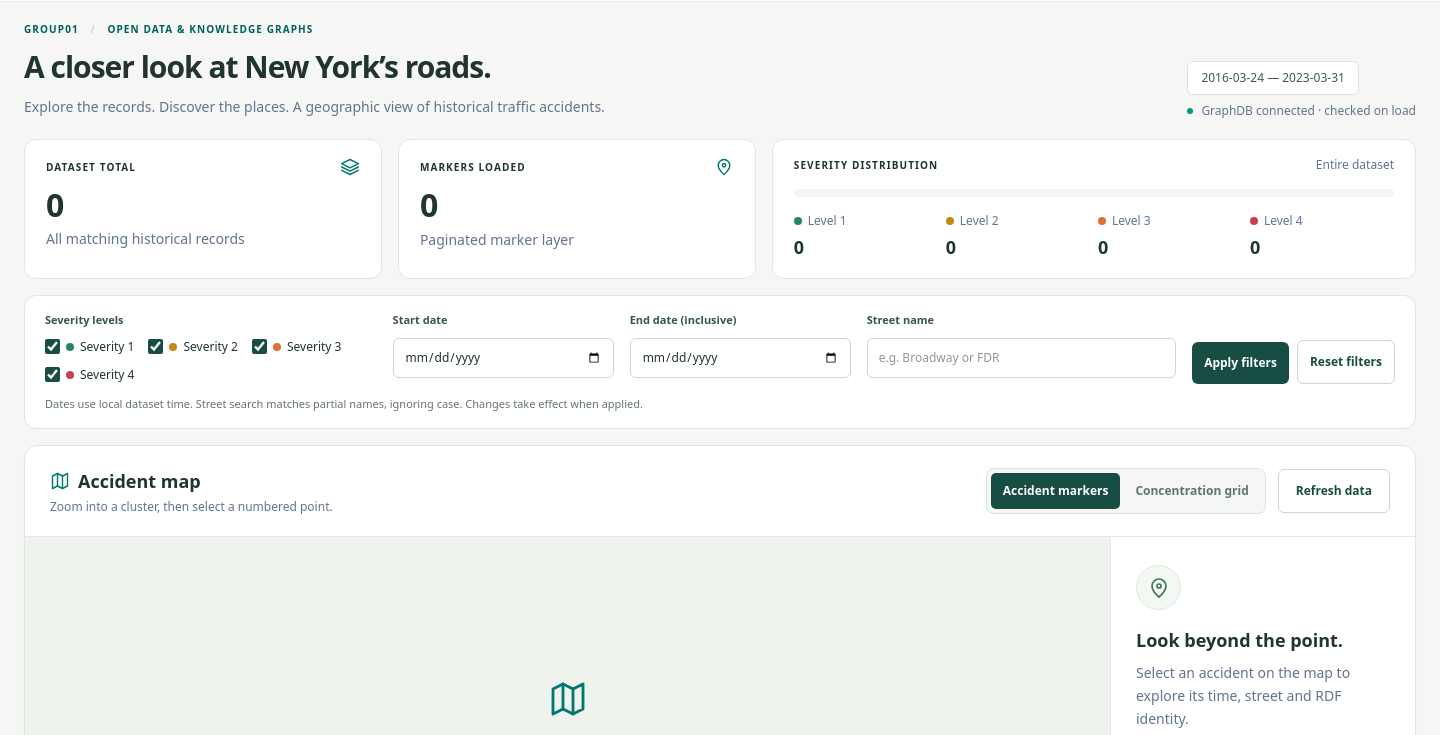
Scenario: complete-population concentration view › shows an empty concentration state without inventing cells
Step 1. Click the button "Concentration grid" → [1192, 491], box [1123,473,1261,509]
(page scrolled)
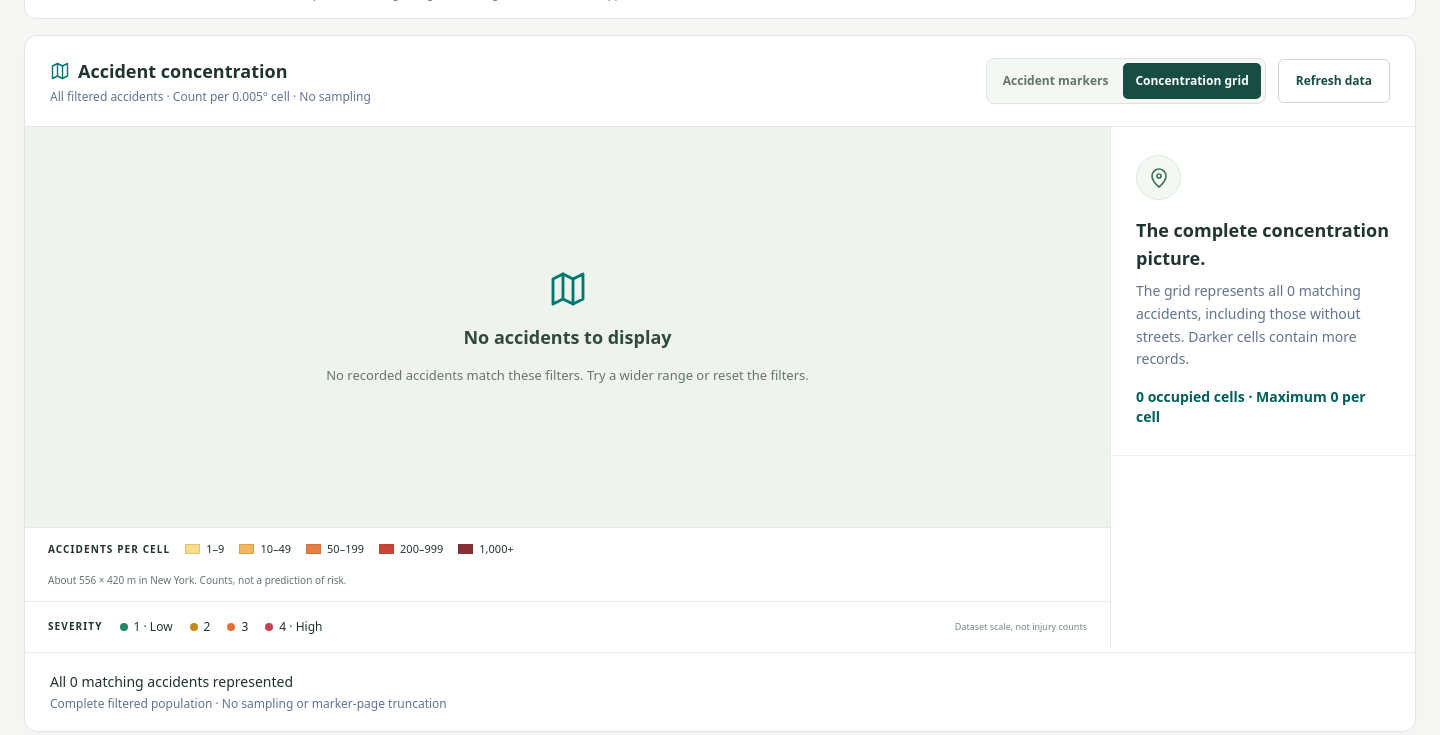
expect the heading "No accidents to display" is shown: met, box [464,324,672,351]
expect the text "All 0 matching accidents represented" is shown: met, box [50,672,293,691]
